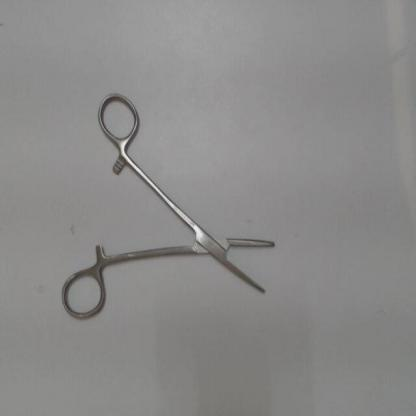Mayo Needle Holder: (58, 86, 286, 323)
